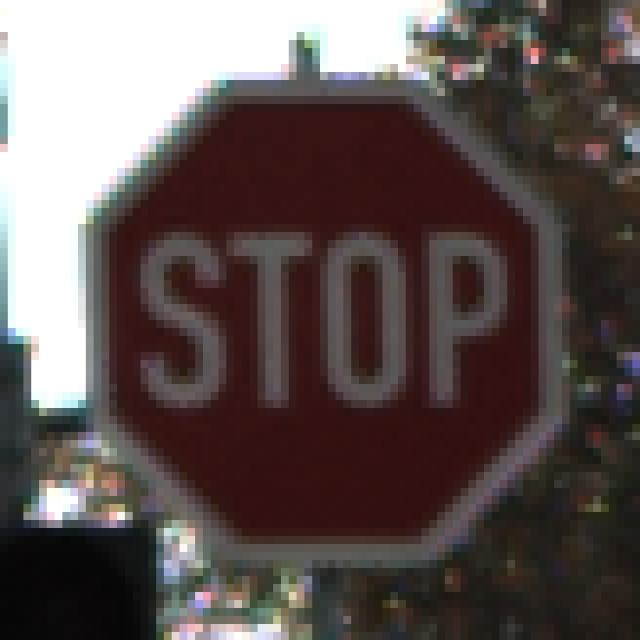STOP: (64, 57, 587, 585)
